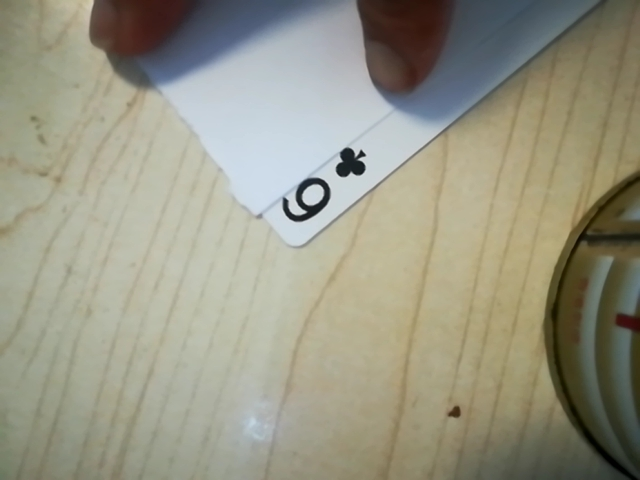mh 6: (273, 138, 380, 239)
